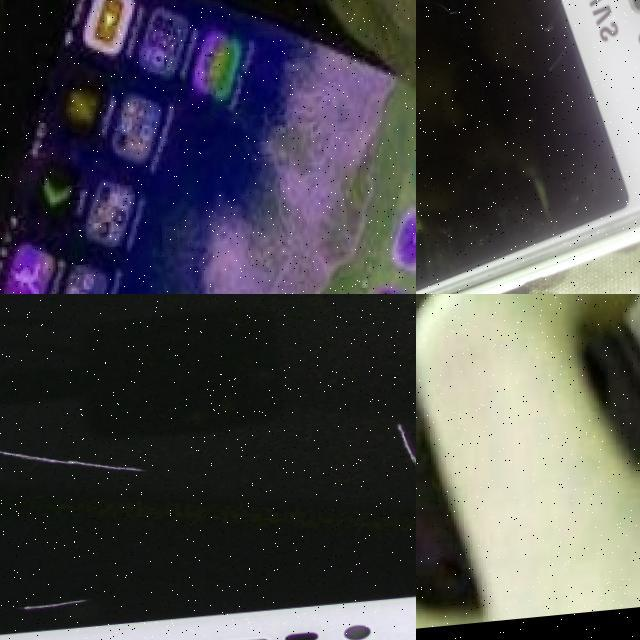scratch: (0, 433, 144, 488), (388, 427, 416, 532), (17, 593, 84, 616)
screen crack: (416, 0, 465, 294)
